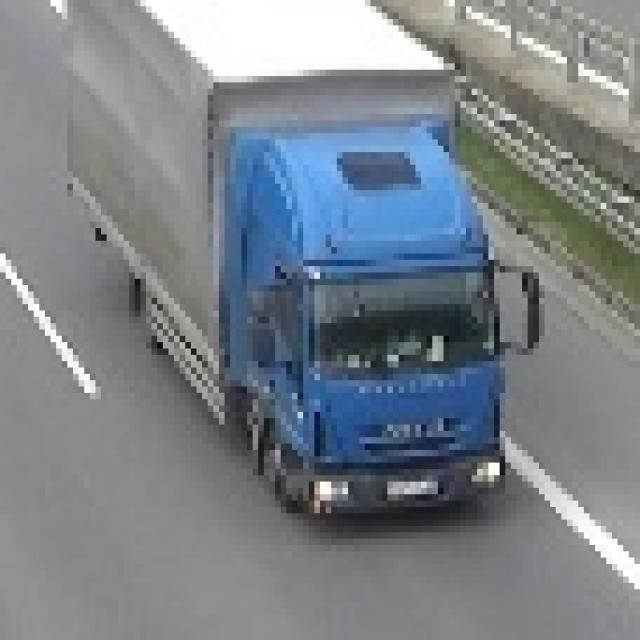truck: (62, 0, 533, 520)
